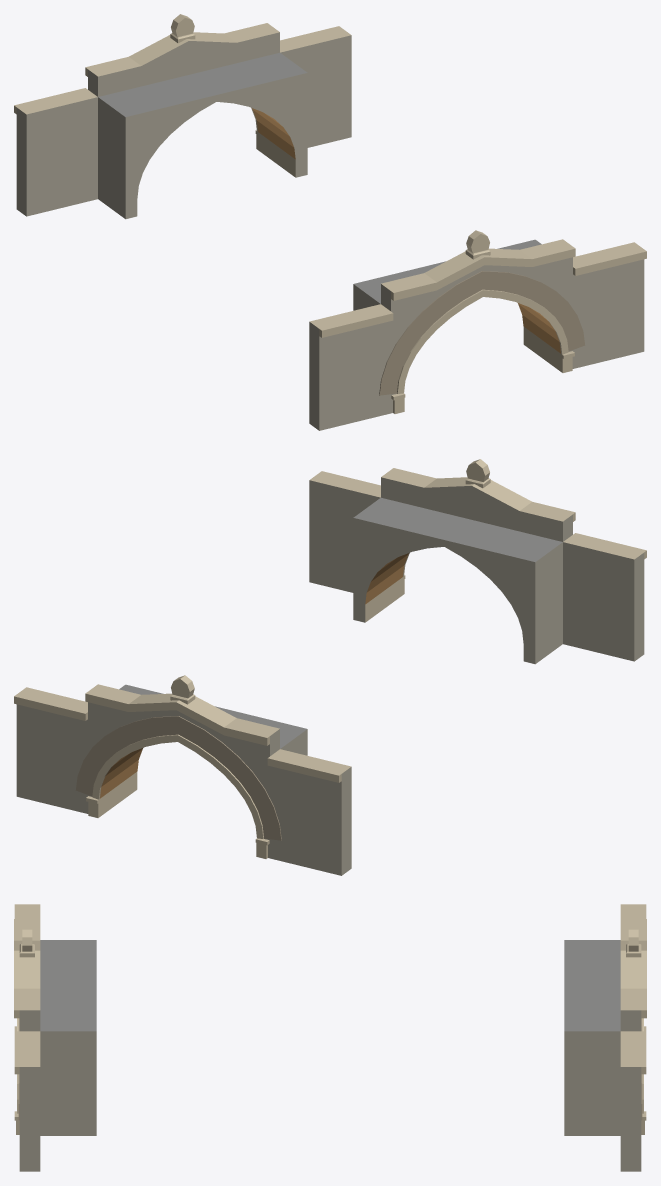
Rendered from nyc-endale-arch.glb.
The picture shows the model from 3 angles, top to bottom: view 1: azimuth 30°, elevation 25°; view 2: azimuth 150°, elevation 25°; view 3: azimuth 270°, elevation 25°; orthographic projection. The views are drawn at different scales.
Parts seen in each view (by area): view 1: Endale Arch; view 2: Endale Arch; view 3: Endale Arch.
Part boxes in pixels (<box>): Endale Arch: <box>14,14,646,430</box>; Endale Arch: <box>14,459,646,875</box>; Endale Arch: <box>14,904,646,1171</box>.
Bounding box in the file's own units: 15 × 6.9 × 24.64.
